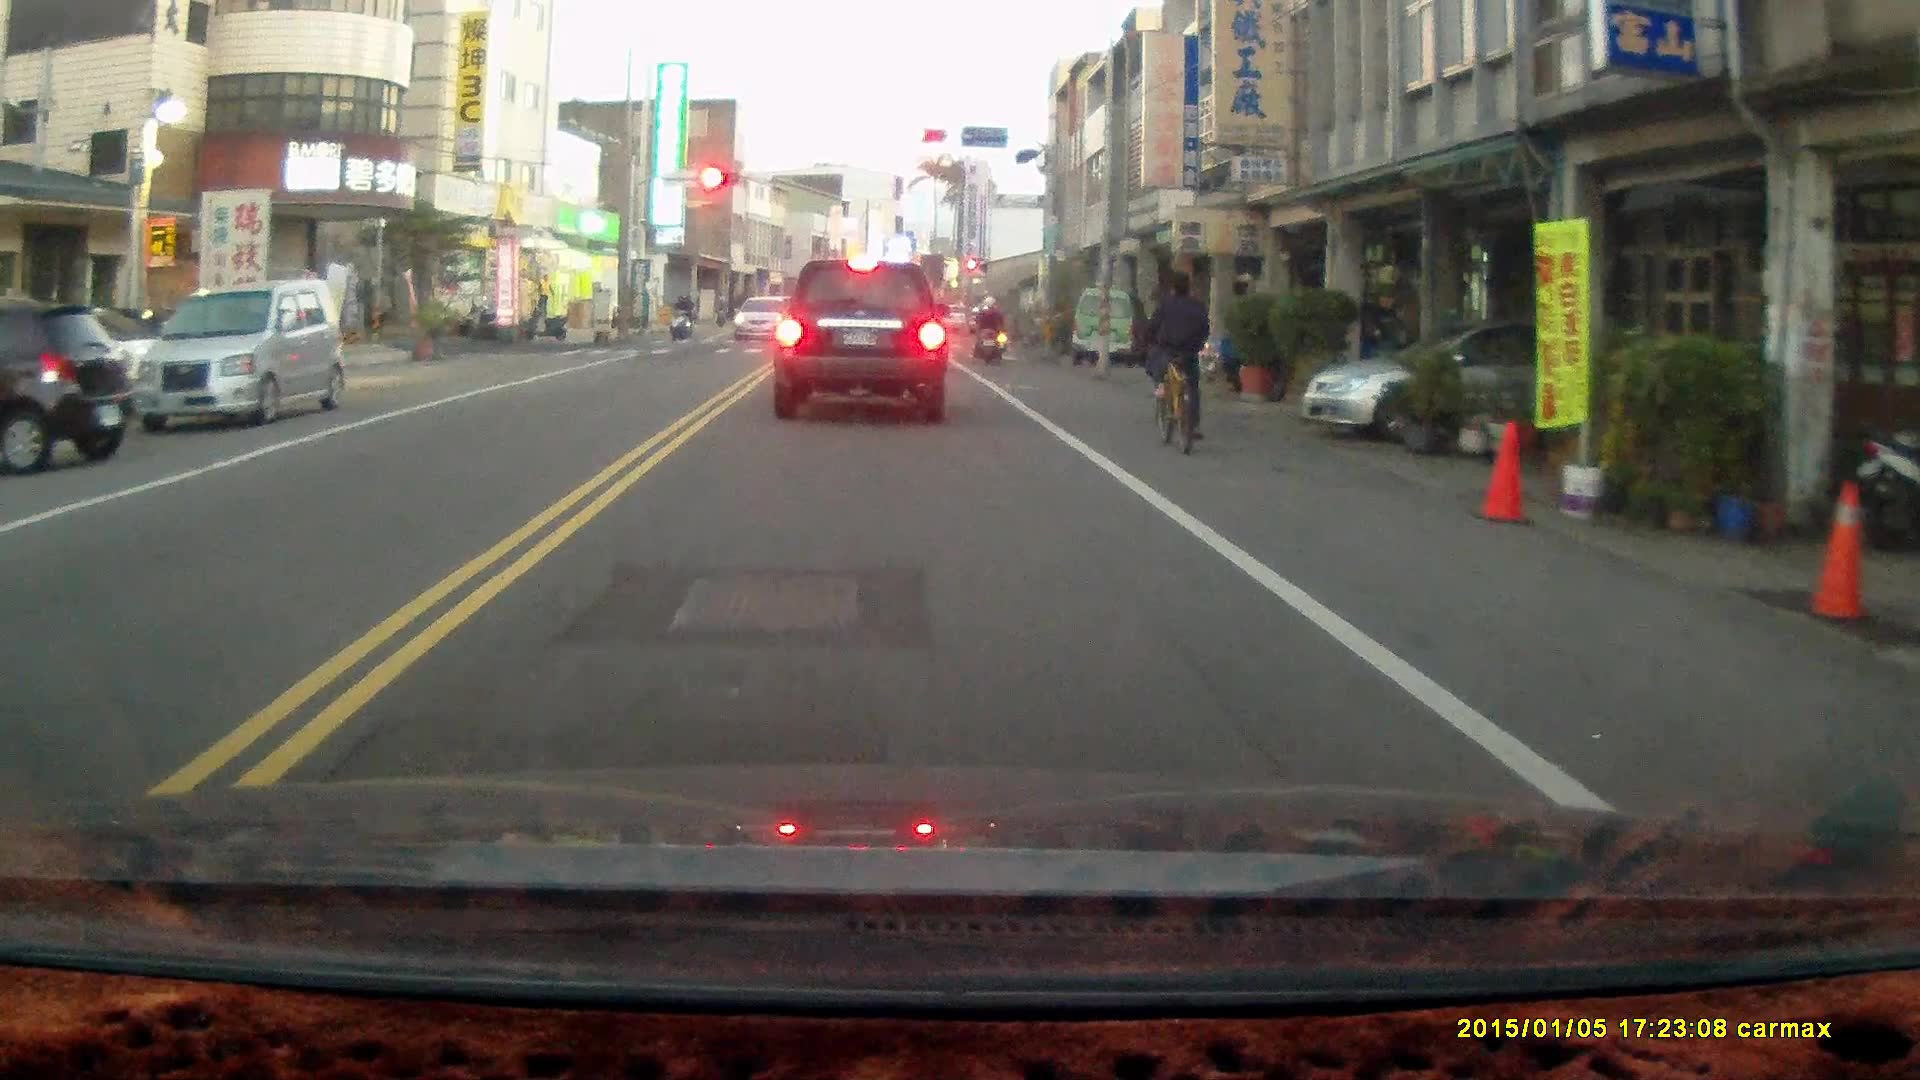pedestrian: (533, 270, 553, 317)
rider: (1142, 269, 1211, 453), (970, 292, 1007, 364), (667, 292, 693, 343)
vehicle: (1302, 316, 1668, 440), (131, 276, 348, 431), (769, 255, 951, 428), (1, 297, 134, 478), (1070, 289, 1147, 367)
